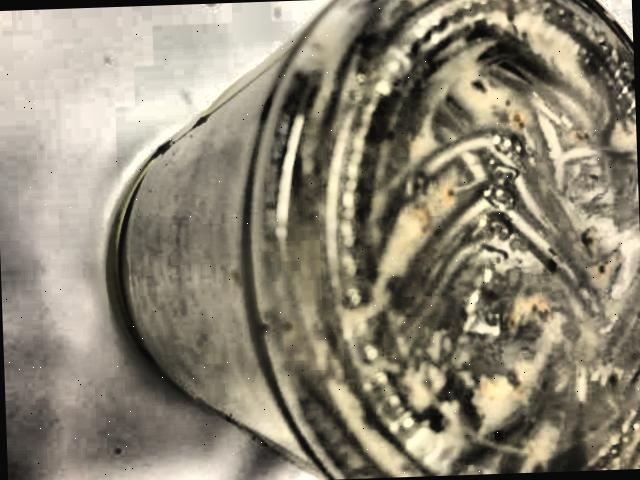Almennt: (100, 0, 624, 480)
